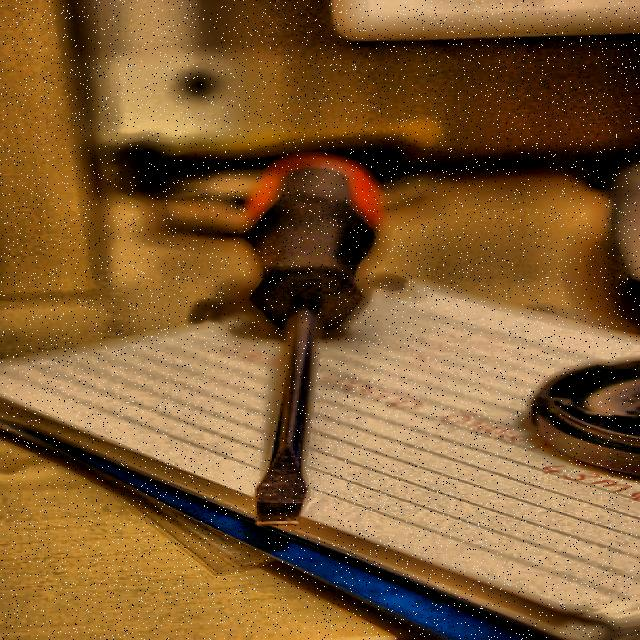screwdriver: (245, 157, 384, 525)
